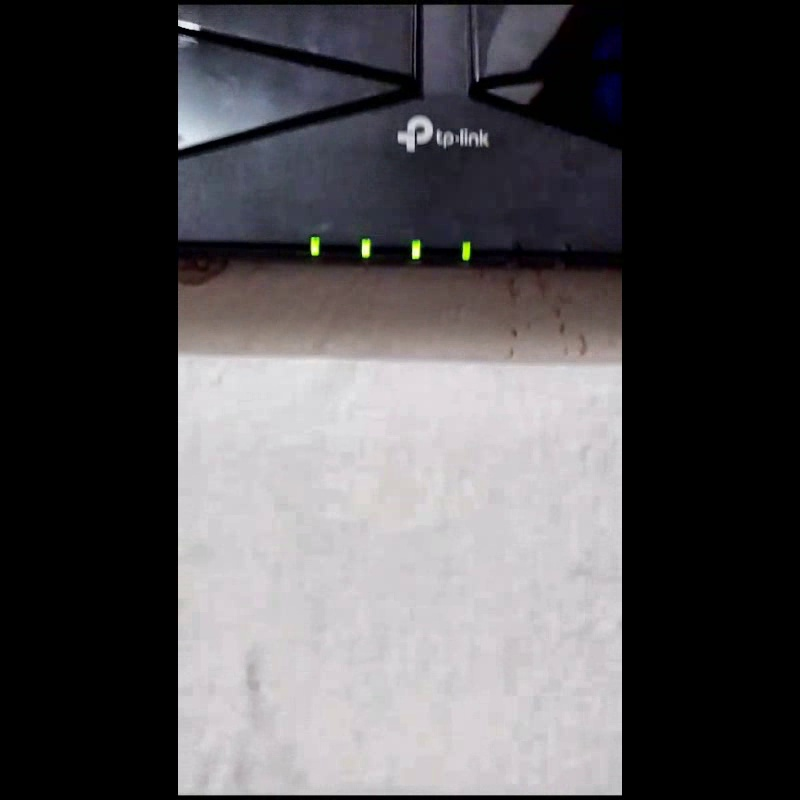off: (561, 241, 570, 261), (511, 240, 520, 259)
on_green: (360, 238, 371, 258), (309, 236, 320, 256), (411, 239, 421, 258), (461, 240, 471, 258)
